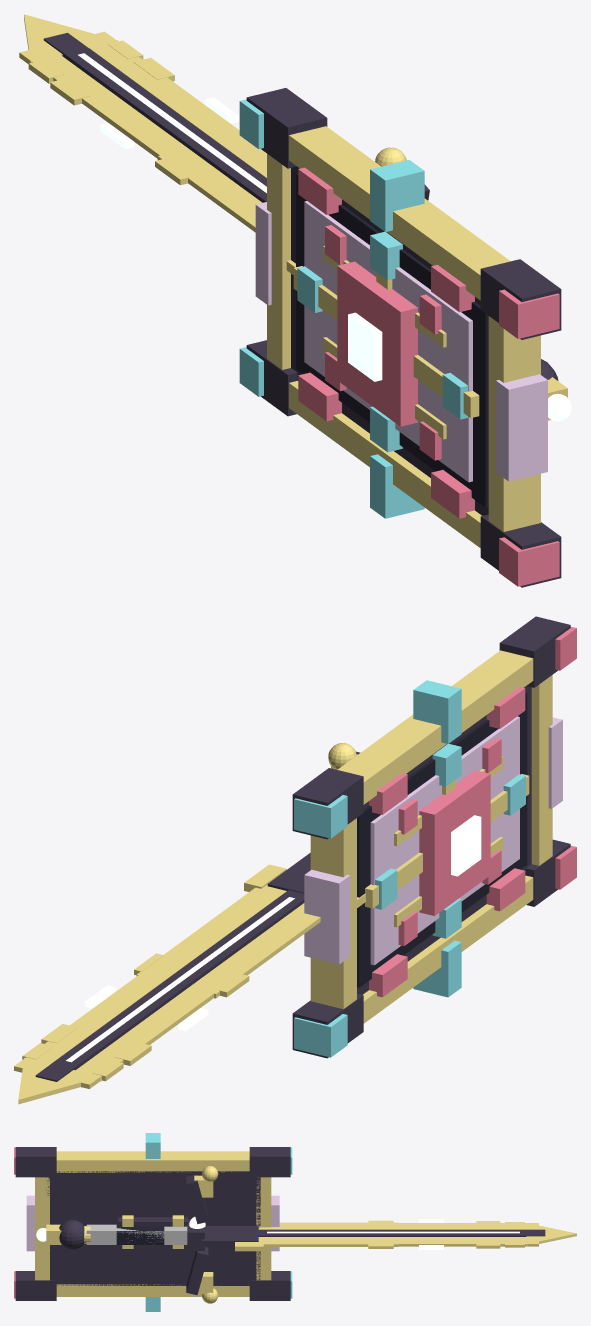
Rendered from art_genesis_worldbreaker.fbx.
3 views of the same model, one above another, from view 1: azimuth 30°, elevation 25°; view 2: azimuth 150°, elevation 25°; view 3: azimuth 270°, elevation 25° (orthographic). The views are drawn at different scales.
Parts seen in each view (by area): view 1: GravitationalLensingRing, RimL, CollapsedStarCore, EventHorizonShield, RimBottom, RimFlangeBot, BladeFuller, RimR, RimTop, EdgeBack2, EdgeFwd2, BastionTowerTL (+26 smaller); view 2: GravitationalLensingRing, RimL, CollapsedStarCore, EventHorizonShield, BladeFuller, RimTop, RimFlangeTop, RimR, RimBottom, EdgeFwd1, EdgeBack1, EdgeBack2 (+26 smaller); view 3: BastionBacking, RimL, RimR, BladeFuller, RimBottom, BastionTowerBL, BastionTowerTL, Handle, EdgeFwd1, RimTop, EdgeFwd2, BastionTowerBR (+19 smaller).
Boxes of the visible parts, box(x1,y1,x2,y2) form: GravitationalLensingRing: box(304, 201, 472, 482); RimL: box(289, 126, 510, 300); CollapsedStarCore: box(337, 261, 417, 426); EventHorizonShield: box(296, 173, 488, 507); RimBottom: box(488, 316, 540, 531); RimFlangeBot: box(496, 374, 547, 481); BladeFuller: box(43, 32, 266, 202); RimR: box(289, 381, 481, 547); RimTop: box(267, 154, 290, 369); EdgeBack2: box(19, 45, 192, 158); EdgeFwd2: box(76, 31, 242, 144); BastionTowerTL: box(246, 88, 327, 168); GravitationalLensingRing: box(370, 716, 519, 965); RimL: box(337, 650, 533, 804); CollapsedStarCore: box(419, 770, 490, 915); EventHorizonShield: box(357, 692, 527, 987); BladeFuller: box(35, 890, 304, 1081); RimTop: box(310, 818, 356, 1009); RimFlangeTop: box(304, 869, 350, 964); RimR: box(363, 875, 533, 1023); RimBottom: box(531, 675, 552, 865); EdgeFwd1: box(136, 884, 286, 981); EdgeBack1: box(189, 903, 320, 998); EdgeBack2: box(64, 986, 217, 1088); BastionBacking: box(46, 1171, 260, 1285); RimL: box(56, 1151, 249, 1172); RimR: box(56, 1284, 249, 1296); BladeFuller: box(258, 1229, 545, 1236); RimBottom: box(35, 1177, 49, 1280); BastionTowerBL: box(15, 1147, 56, 1177); BastionTowerTL: box(249, 1147, 290, 1177); Handle: box(86, 1224, 187, 1244); EdgeFwd1: box(258, 1237, 398, 1246); RimTop: box(256, 1177, 271, 1280); EdgeFwd2: box(393, 1237, 538, 1246); BastionTowerBR: box(15, 1271, 56, 1300).
Bounding box in the file's own units: 1.32 × 2.95 × 8.9.
